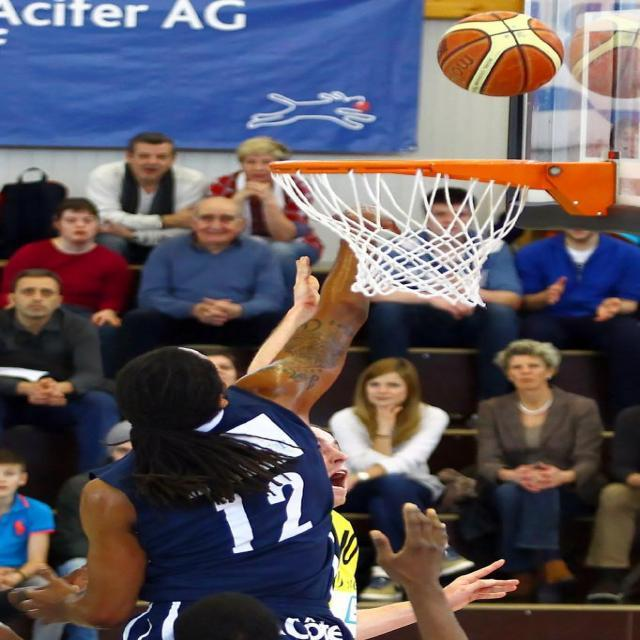rim: (435, 10, 566, 94), (572, 18, 640, 96)
